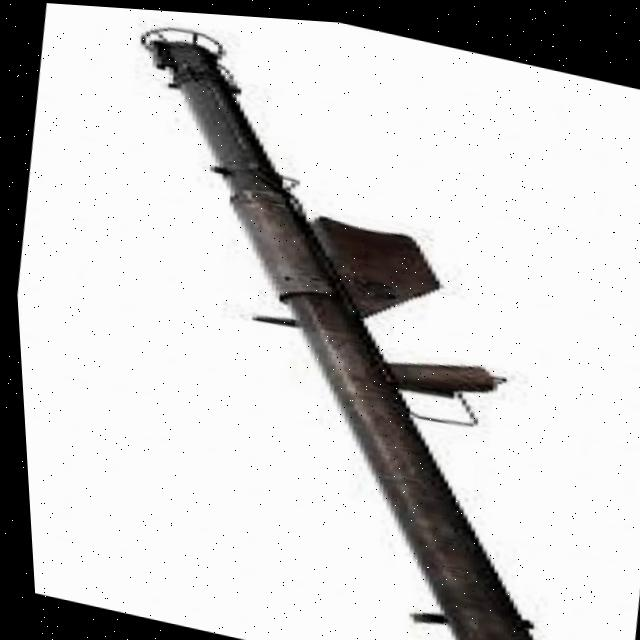rocket: (48, 3, 631, 640)
